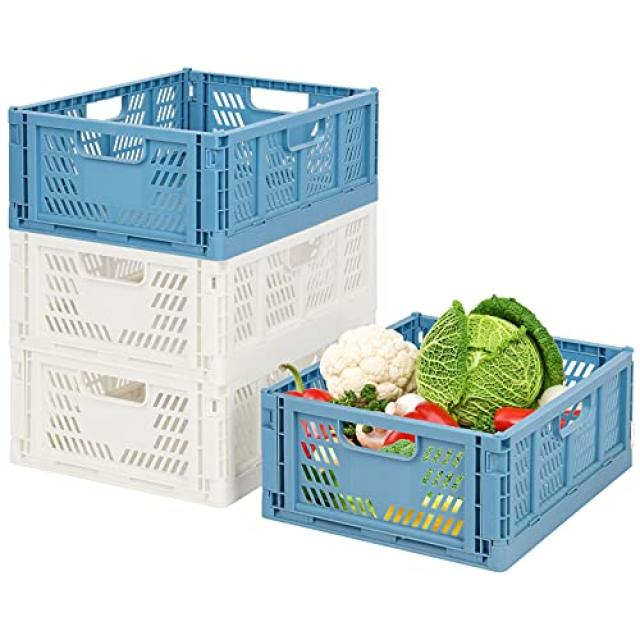basket: (9, 205, 377, 506), (260, 337, 639, 580), (0, 51, 389, 275)
